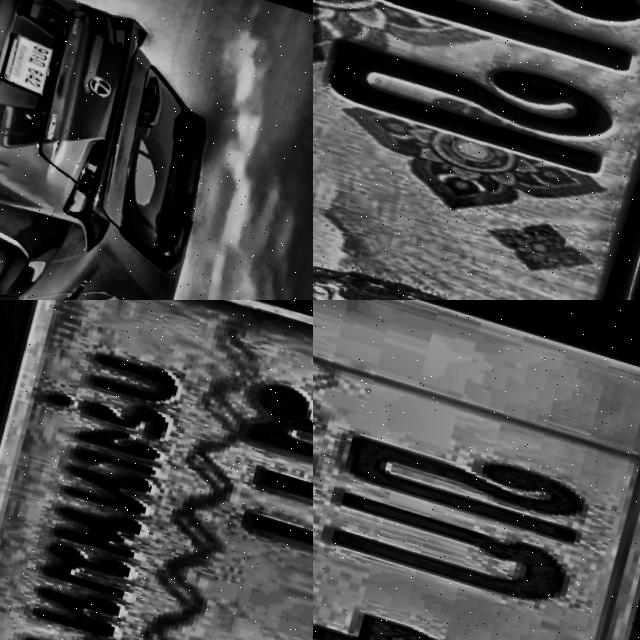license-plate: (313, 300, 640, 640), (0, 300, 313, 640), (313, 0, 640, 300), (3, 28, 63, 93)
